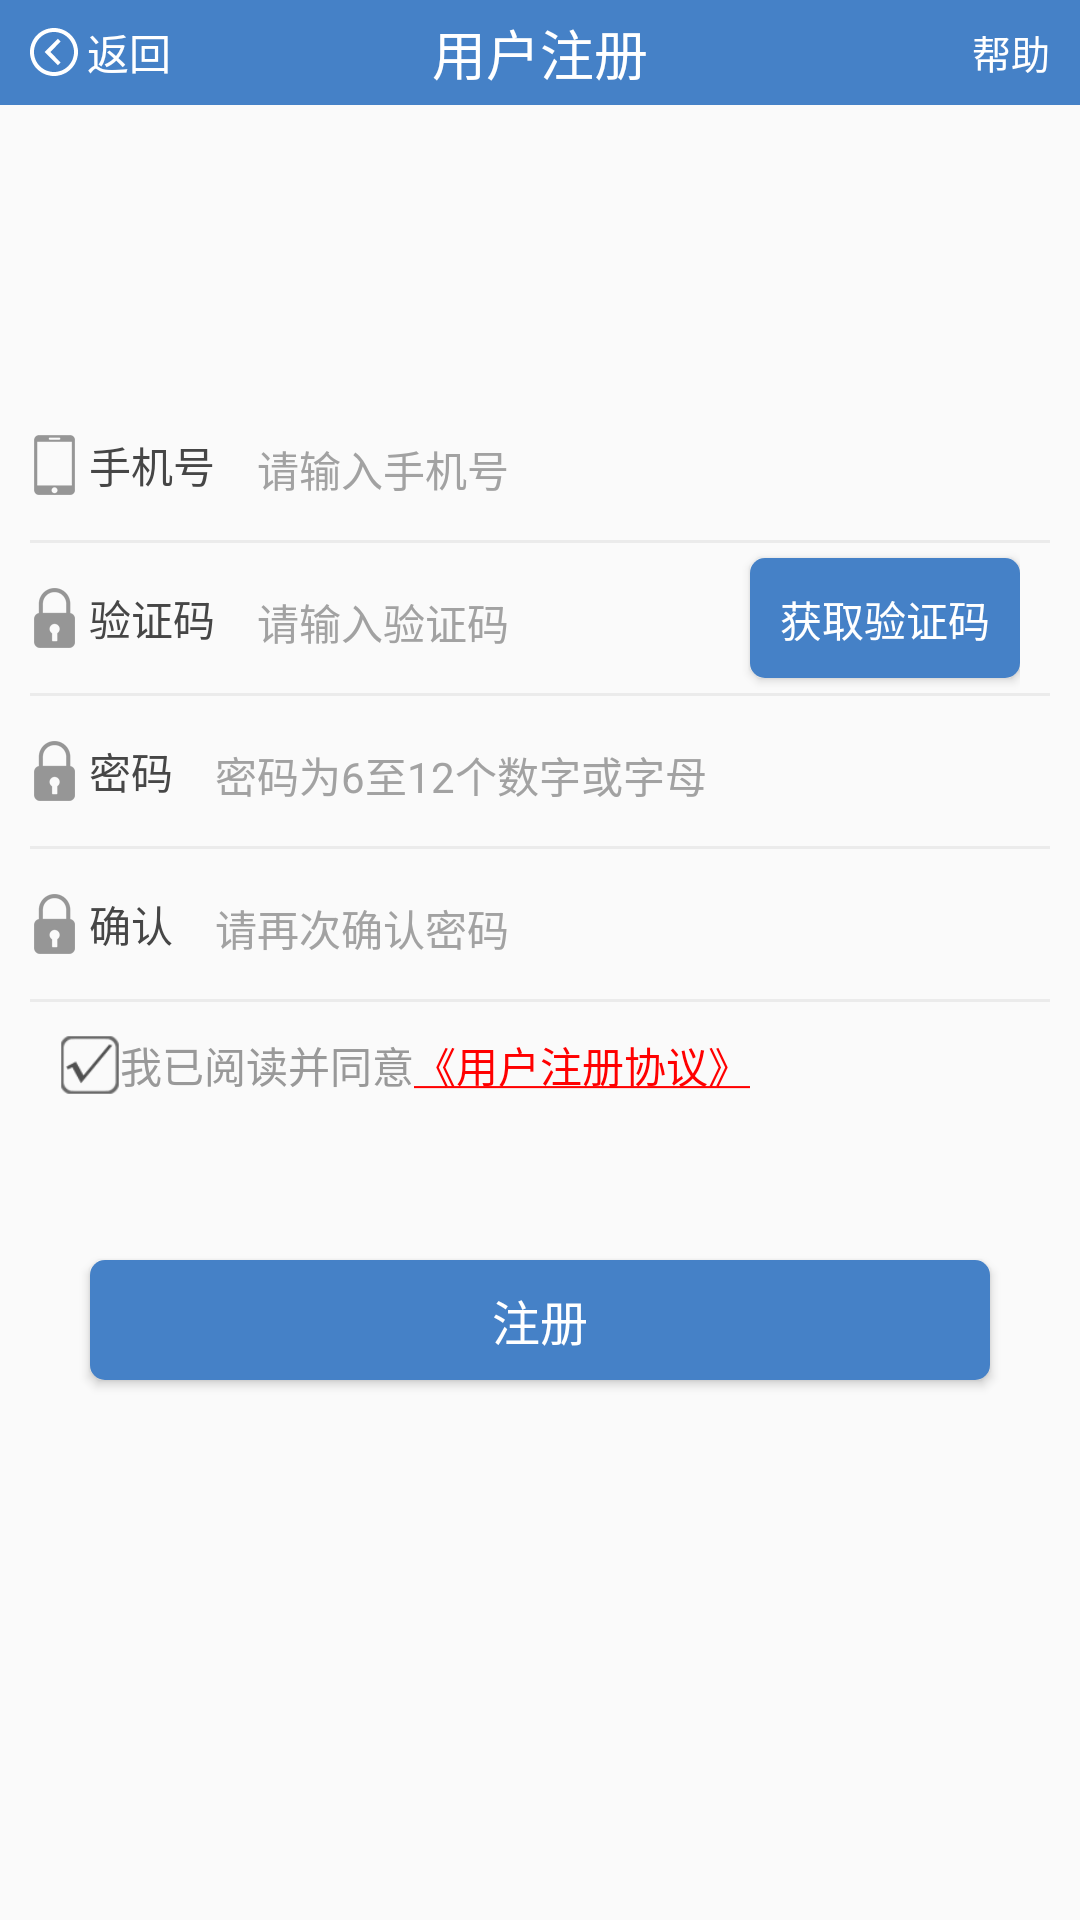

Point at icon controls on the screen. Image size 1080*1920, points as (x,y).
phone: (54,465)
psd locked: (54,618), (54,771), (54,924)
